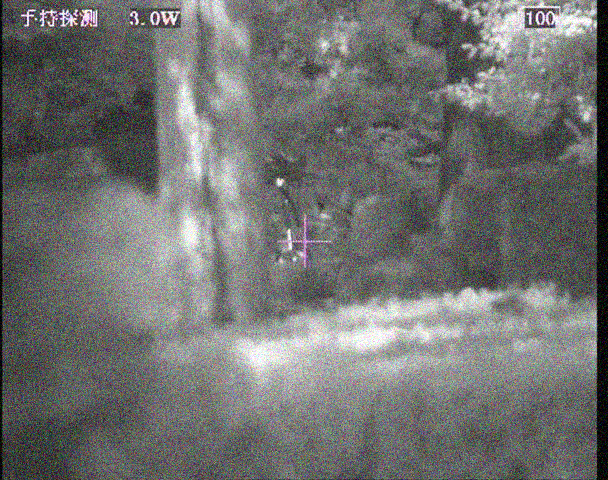my: (275, 177, 284, 187)
